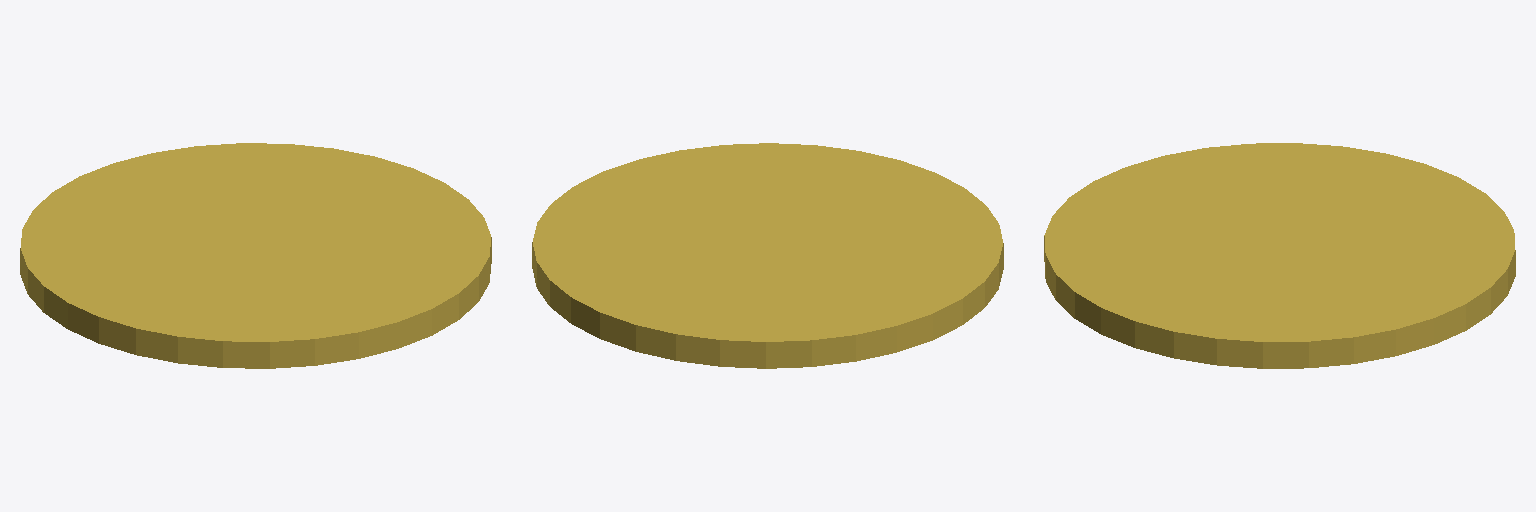
robot.urdf — Interference:
<?xml version="1.0"?>
<robot name="Interference">
  <link name="baseLink">
    <inertial>
      <origin xyz="0.0 0.0 0.0" rpy="0.0 0.0 0.0"/>
      <inertia ixx="0.0" ixy="0.0" ixz="0.0" iyy="0.0" iyz="0.0" izz="0.0"/>
      <mass value="0"/>
    </inertial>
    <visual>
      <origin xyz="0.0 0.0 0.0" rpy="0.0 0.0 -1.2513684512278287"/>
      <geometry>
        <cylinder radius="0.07987255206130328" length="0.01"/>
      </geometry>
      <material name="color">
        <color rgba="0.813399792658724 0.7145467588934982 0.3334766167559249 1.0"/>
      </material>
    </visual>
  </link>
</robot>

--- Facts derived from the render (not from the file) ---
Views: 3 orthographic renders of the robot side by side, from view 1: azimuth 30°, elevation 25°; view 2: azimuth 150°, elevation 25°; view 3: azimuth 270°, elevation 25°.
Model Interference with 1 links and 0 joints (none), rooted at baseLink, posed all joints at 0.
Visible links, largest first — view 1: baseLink; view 2: baseLink; view 3: baseLink.
Link boxes in pixels (bbox=[...]): baseLink: bbox=[20, 143, 491, 368]; baseLink: bbox=[532, 143, 1003, 368]; baseLink: bbox=[1044, 143, 1515, 368].
Bounding box of the posed robot: 0.1593 × 0.1593 × 0.01 m (x, y, z).
Geometry: primitives only (box / cylinder / sphere), no mesh files.